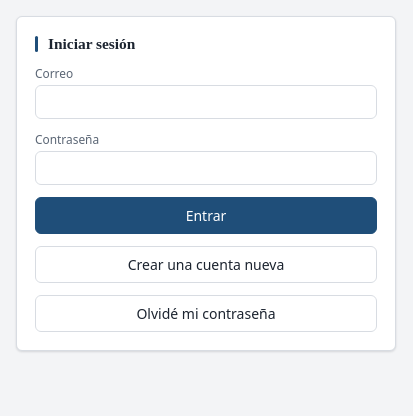
Test: LoginPage › shows the translated error and lets the user try again
This screenshot has width=413, height=416.
Type "ana@example.com" into the field labelled "Correo" at x=206, y=102, box [35,85,377,119]
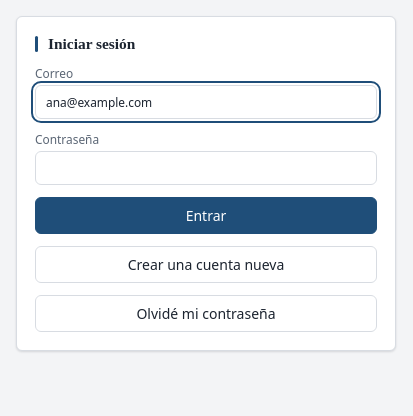
Type "wrong-password" into the password field labelled "Contraseña" at x=206, y=168, box [35,151,377,185]
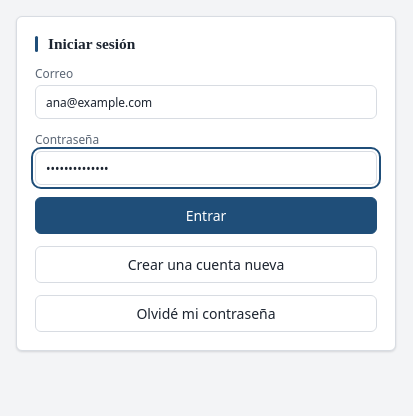
Click the button "Entrar" at x=206, y=216, box [35,197,377,234]
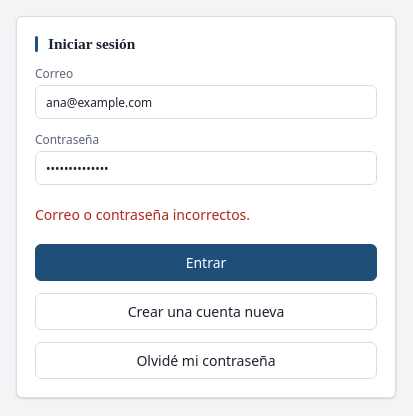
Expected: the button "Entrar" is enabled, [35,244,377,281]
Expected: the message reads "Correo o contraseña incorrectos.", [35,205,250,224]
